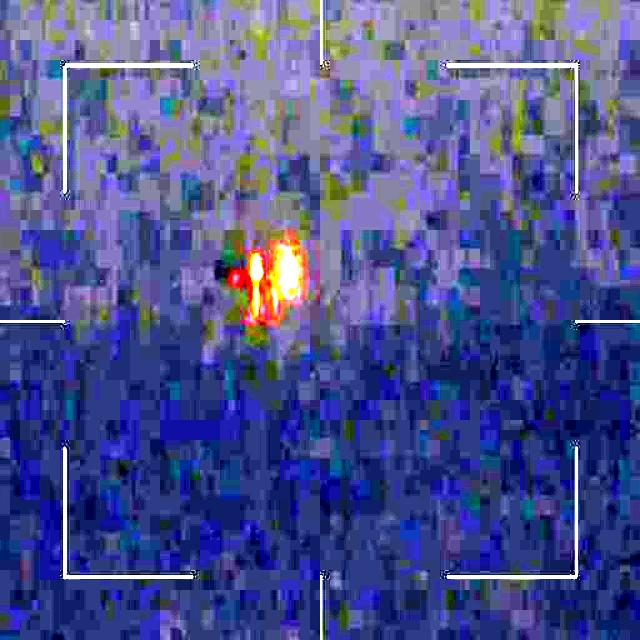bird: (222, 245, 309, 338)
